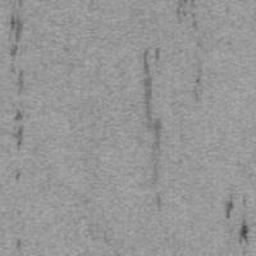Inclusion: (138, 49, 164, 212), (6, 13, 26, 95), (174, 0, 202, 32), (12, 109, 26, 148), (238, 218, 251, 246), (192, 77, 206, 102), (225, 198, 234, 221), (15, 237, 23, 248), (154, 49, 161, 61), (15, 172, 22, 180)
